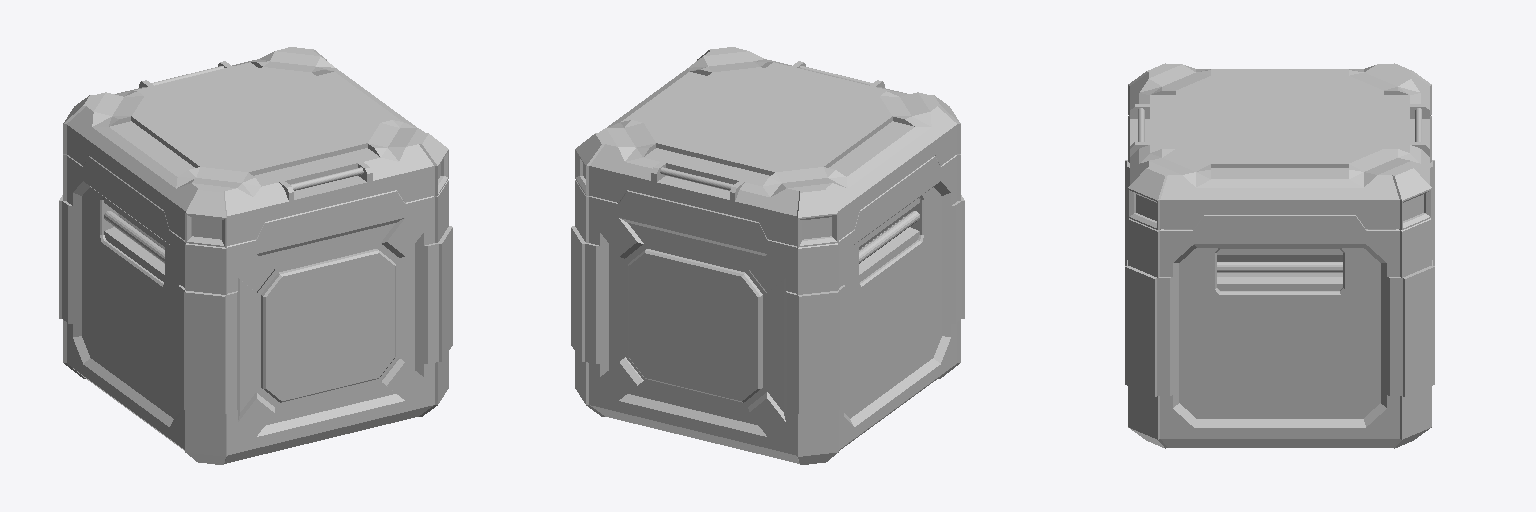
Rendered from crate.obj.
The picture shows the model from 3 angles: view 1: azimuth 30°, elevation 25°; view 2: azimuth 150°, elevation 25°; view 3: azimuth 270°, elevation 25°; orthographic projection.
Parts seen in each view (by area): view 1: Sci_fi_Crate_Cube.001; view 2: Sci_fi_Crate_Cube.001; view 3: Sci_fi_Crate_Cube.001.
Boxes of the visible parts, x1=… form: Sci_fi_Crate_Cube.001: x1=59, y1=47, x2=452, y2=464; Sci_fi_Crate_Cube.001: x1=571, y1=47, x2=964, y2=464; Sci_fi_Crate_Cube.001: x1=1125, y1=63, x2=1434, y2=448.
Bounding box in the file's own units: 1.6 × 1.55 × 1.6.